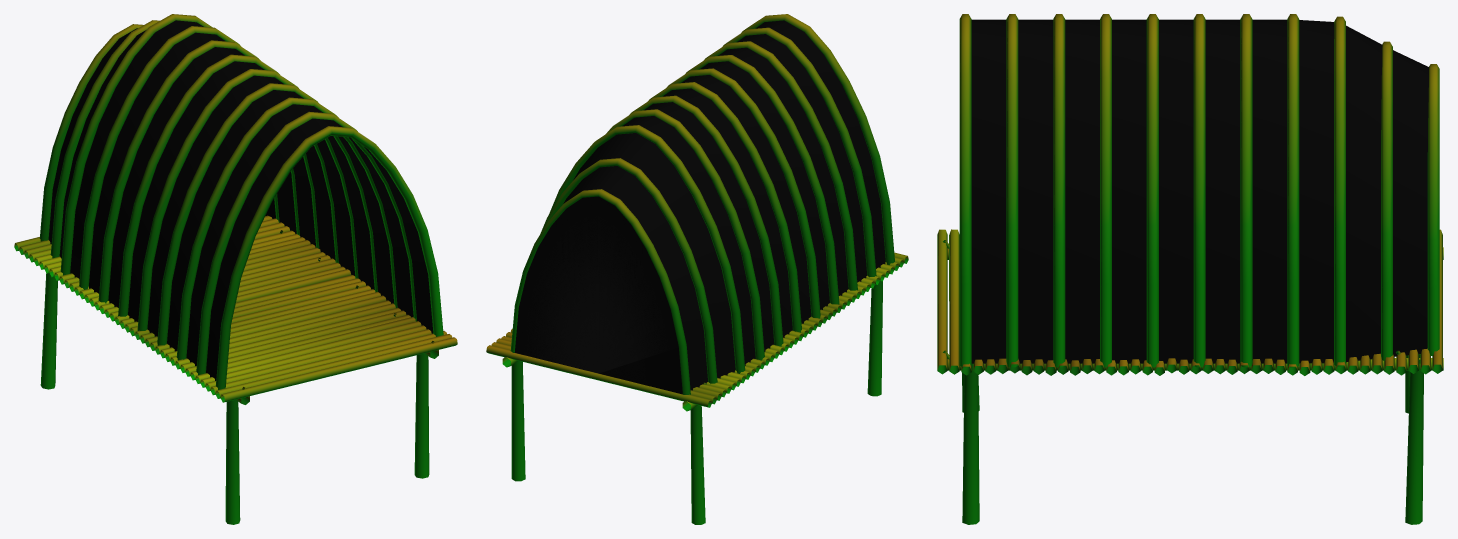
Rendered from kirru_roost.glb.
The picture shows the model from 3 angles, left to right: view 1: azimuth 30°, elevation 25°; view 2: azimuth 150°, elevation 25°; view 3: azimuth 270°, elevation 25°; orthographic projection. The views are drawn at different scales.
Visible parts, largest first — view 1: kirru_roost; view 2: kirru_roost; view 3: kirru_roost.
Part boxes in pixels (x1=…): kirru_roost: x1=14, y1=14, x2=457, y2=524; kirru_roost: x1=486, y1=14, x2=908, y2=524; kirru_roost: x1=937, y1=14, x2=1443, y2=524.
Size of what is drawn, in the model's own units: 3.2 by 4.9 by 5.03.
